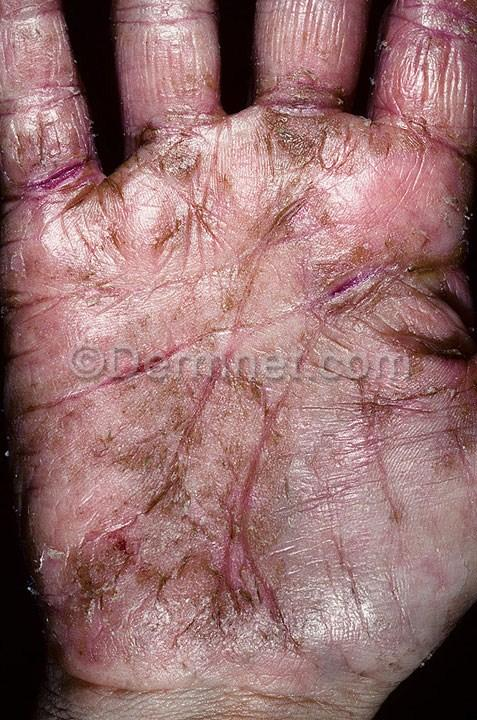Eczema: (59, 116, 477, 263), (1, 196, 125, 686), (133, 263, 477, 423), (135, 435, 331, 665), (0, 3, 102, 207), (115, 0, 233, 137), (379, 3, 477, 152), (259, 0, 362, 117)
